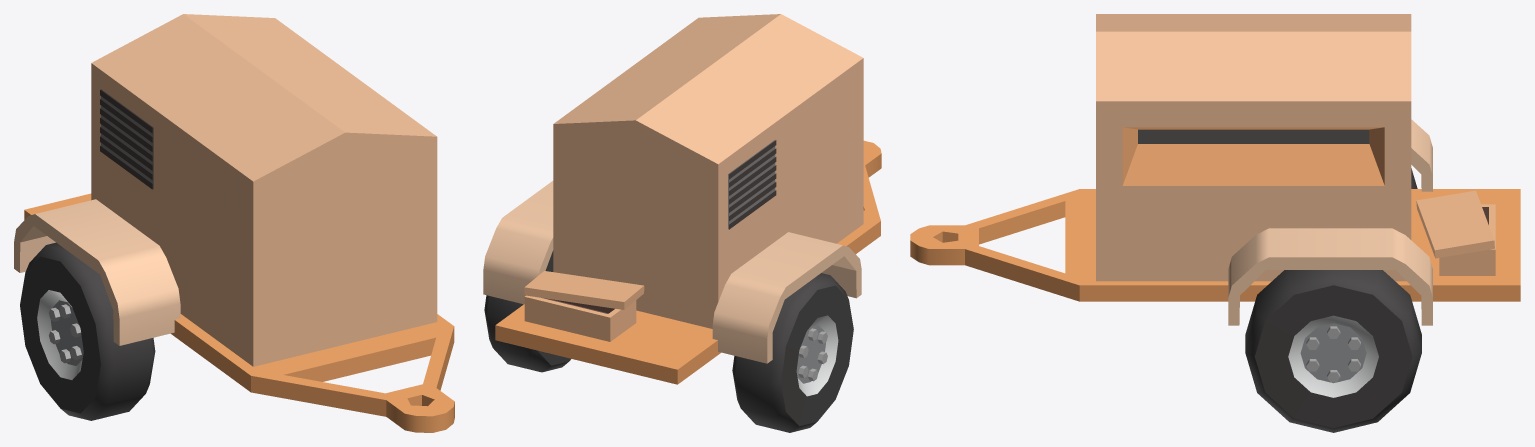
The model's file is Generator_004.glb.
3 views of the same model, side by side, from view 1: azimuth 30°, elevation 25°; view 2: azimuth 150°, elevation 25°; view 3: azimuth 270°, elevation 25° (orthographic). The views are drawn at different scales.
Visible parts, largest first — view 1: Generator_004, Wheel_002_R; view 2: Generator_004, Wheel_002_R, Wheel_002_L; view 3: Generator_004, Wheel_002_L.
Boxes of the visible parts, x1,y1,x2,y2 form: Generator_004: (14,14,454,432); Wheel_002_R: (20,242,155,420); Generator_004: (483,14,881,384); Wheel_002_R: (732,273,853,432); Wheel_002_L: (484,250,570,372); Generator_004: (910,14,1520,325); Wheel_002_L: (1245,270,1421,432).
Bounding box in the file's own units: 1.82 × 1.76 × 2.98.
Materials: 1 (1 with a texture image).
